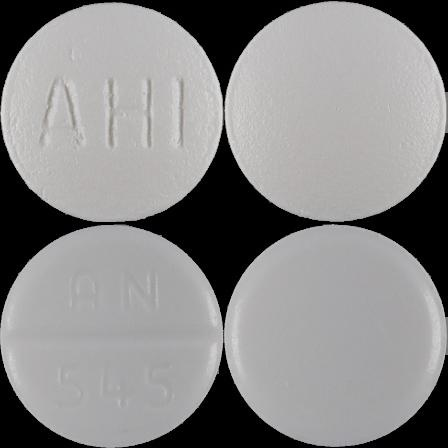0904-6195: (0, 0, 224, 224)
